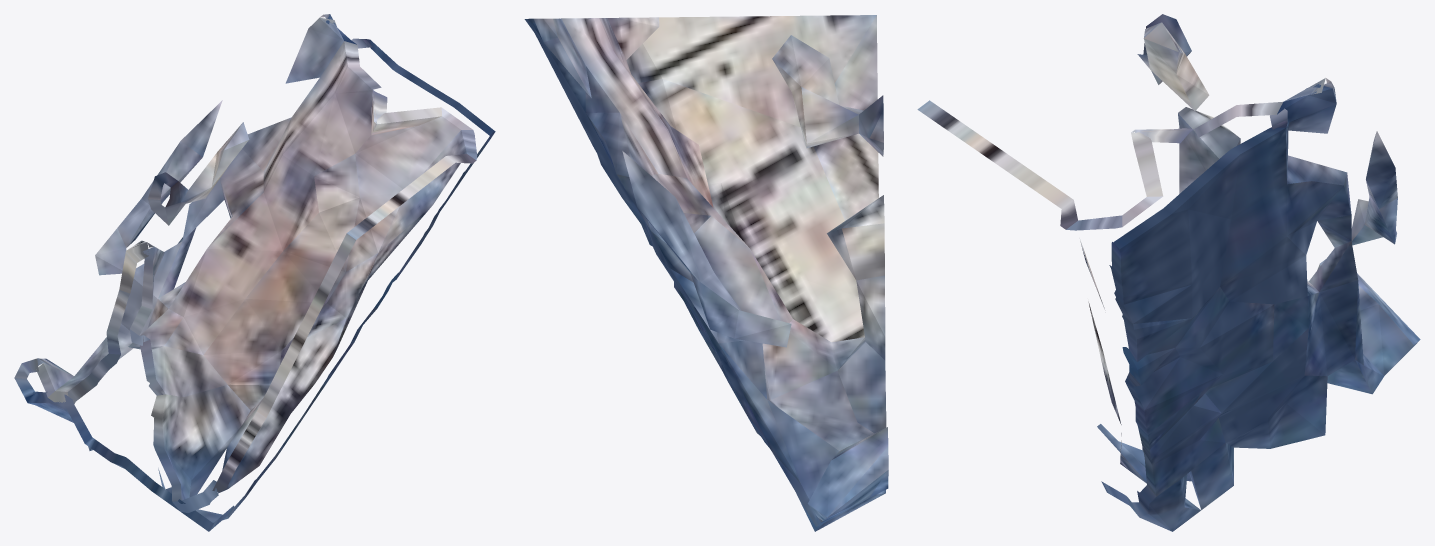
The picture shows the model from 3 angles, left to right: view 1: azimuth 30°, elevation 25°; view 2: azimuth 150°, elevation 25°; view 3: azimuth 270°, elevation 25°; orthographic projection. The views are drawn at different scales.
Bounding box in the file's own units: 17.5 × 18.08 × 14.68.
1 material, 1 textured.
